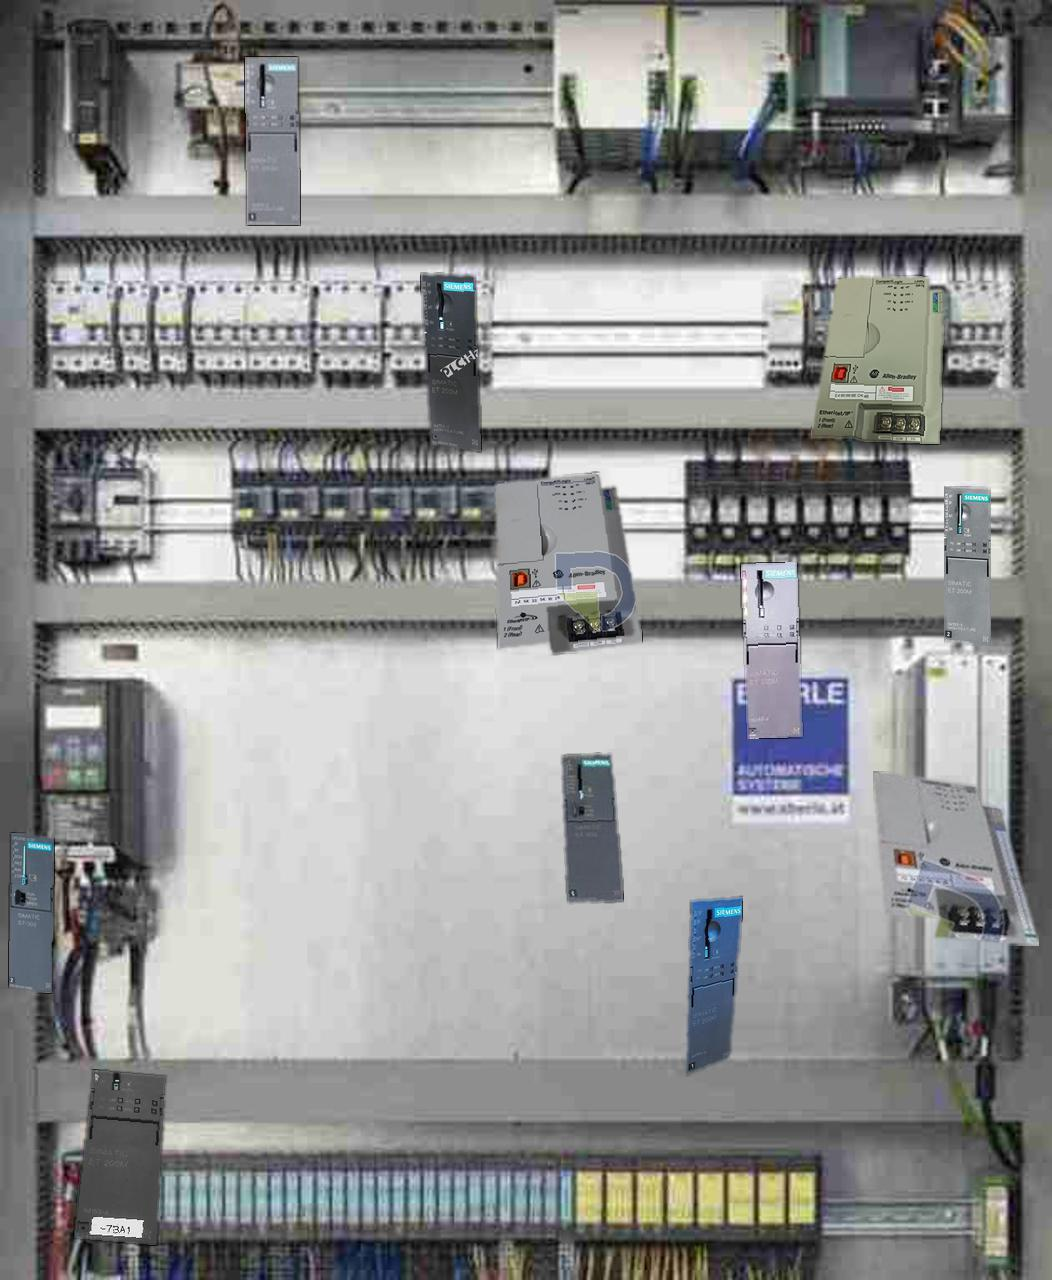AllenBradley: (873, 771, 1038, 945), (495, 473, 641, 653), (811, 276, 941, 443)
Siemens: (562, 754, 622, 902), (9, 833, 53, 992)
